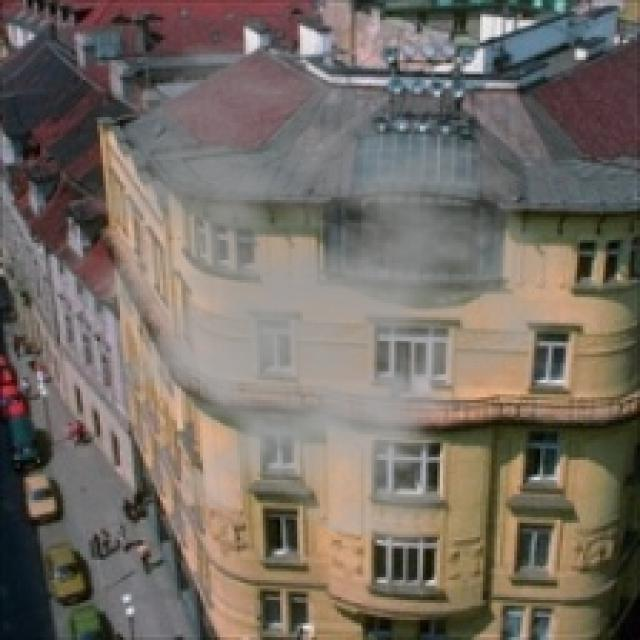smoke: (31, 34, 580, 552)
